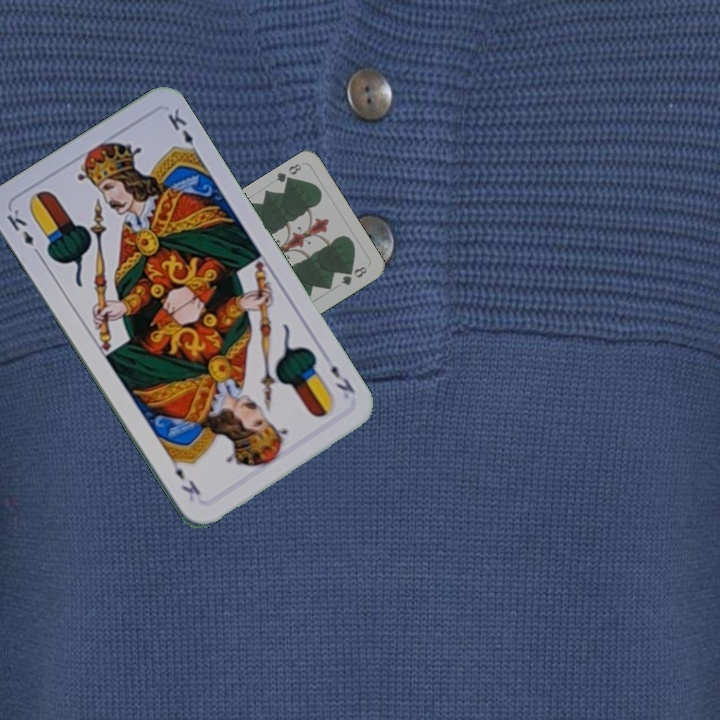EK: (3, 205, 44, 260), (326, 360, 358, 396)
G8: (271, 159, 304, 188)
